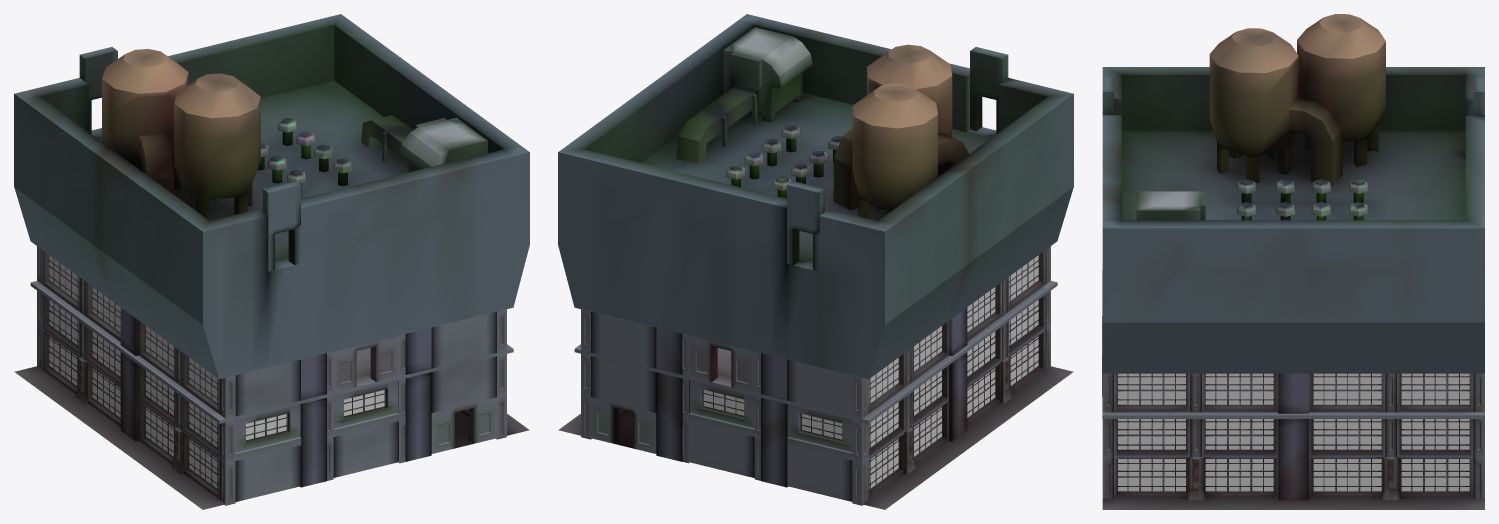
The picture shows the model from 3 angles, left to right: view 1: azimuth 30°, elevation 25°; view 2: azimuth 150°, elevation 25°; view 3: azimuth 270°, elevation 25°; orthographic projection.
Parts seen in each view (by area): view 1: two_tank_roof01, open warehouse01, metal_2, glass_open_warehouse01; view 2: two_tank_roof01, open warehouse01, metal_2, glass_open_warehouse01; view 3: two_tank_roof01, metal_2, open warehouse01, glass_open_warehouse01.
Part boxes in pixels (bbox=[...]): two_tank_roof01: bbox=[14, 14, 529, 379]; open warehouse01: bbox=[14, 246, 529, 509]; metal_2: bbox=[49, 49, 487, 490]; glass_open_warehouse01: bbox=[49, 255, 384, 488]; two_tank_roof01: bbox=[558, 14, 1073, 379]; open warehouse01: bbox=[558, 246, 1073, 509]; metal_2: bbox=[676, 27, 1038, 490]; glass_open_warehouse01: bbox=[703, 255, 1038, 488]; two_tank_roof01: bbox=[1102, 67, 1484, 373]; metal_2: bbox=[1118, 14, 1469, 492]; open warehouse01: bbox=[1102, 270, 1484, 509]; glass_open_warehouse01: bbox=[1118, 373, 1469, 491].
Size of the model in its own units: 20 by 20.59 by 20.02.
